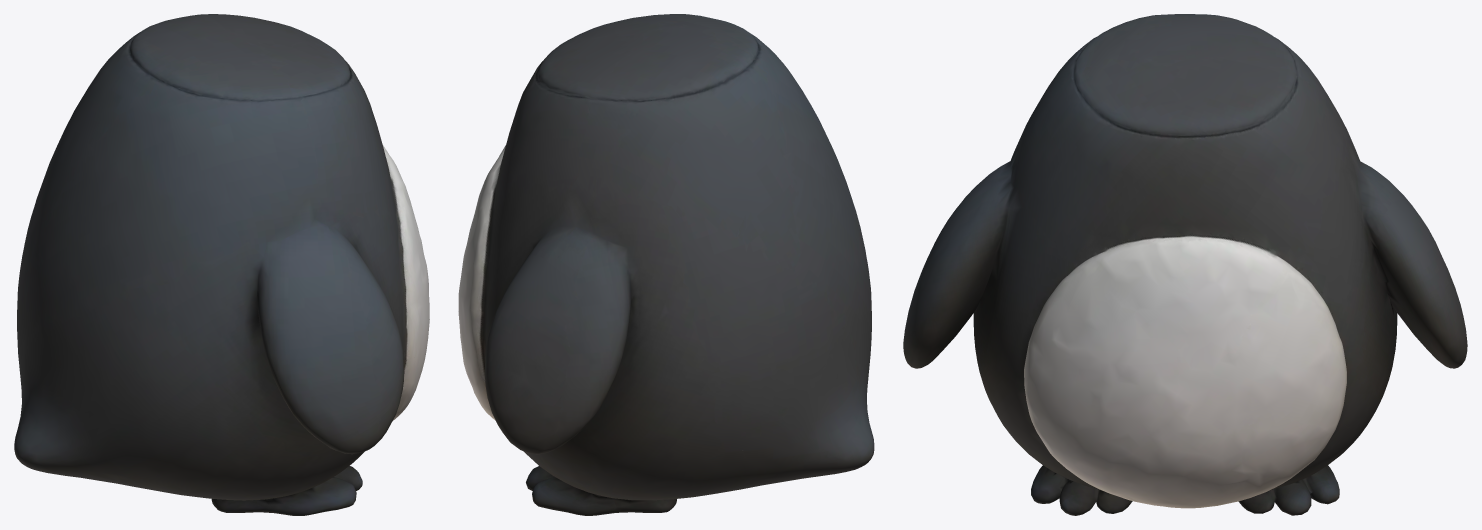
The model's file is body.glb.
3 renders of one model, left to right at view 1: azimuth 30°, elevation 25°; view 2: azimuth 150°, elevation 25°; view 3: azimuth 270°, elevation 25°, orthographic.
Parts seen in each view (by area): view 1: tripo_node_ff80b388-f6c4-48b4-a043-7c4e05d049b2; view 2: tripo_node_ff80b388-f6c4-48b4-a043-7c4e05d049b2; view 3: tripo_node_ff80b388-f6c4-48b4-a043-7c4e05d049b2.
Part boxes in pixels (x1=…): tripo_node_ff80b388-f6c4-48b4-a043-7c4e05d049b2: x1=14, y1=14, x2=429, y2=515; tripo_node_ff80b388-f6c4-48b4-a043-7c4e05d049b2: x1=458, y1=14, x2=874, y2=515; tripo_node_ff80b388-f6c4-48b4-a043-7c4e05d049b2: x1=903, y1=14, x2=1467, y2=515.
Bounding box in the file's own units: 0.7998 × 0.8511 × 1.
1 material, 1 textured.
